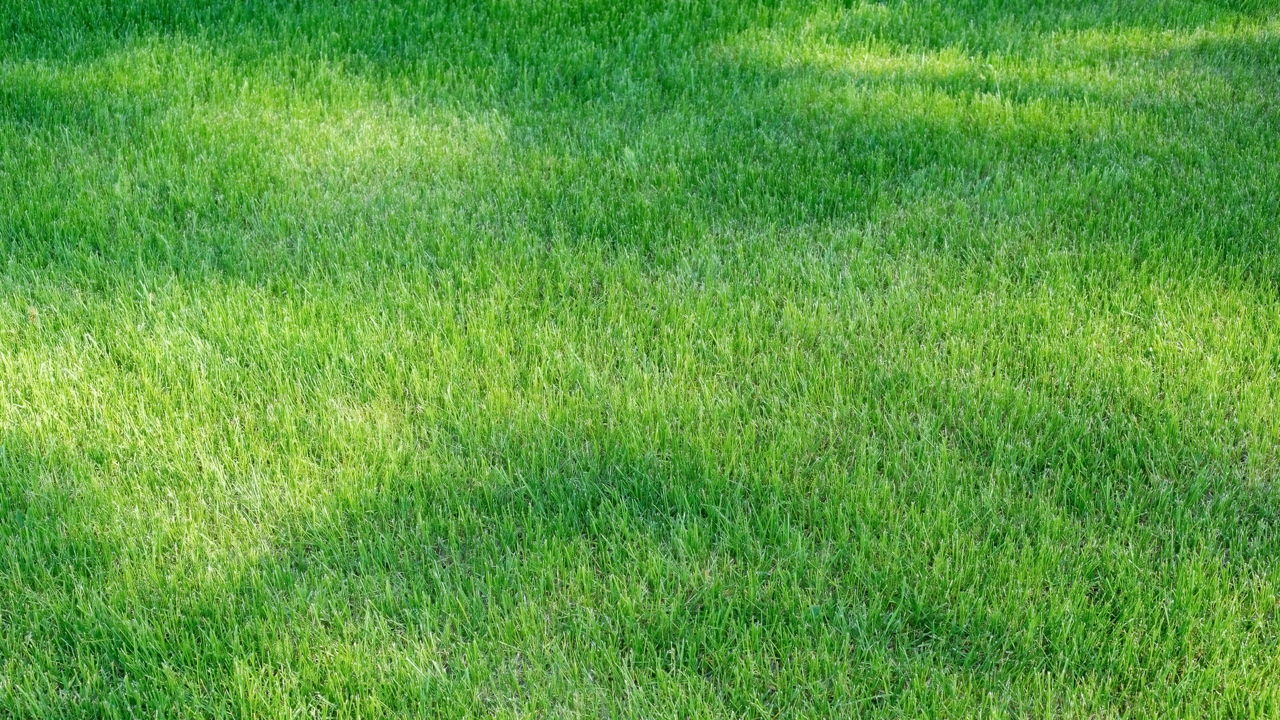grass: (1, 2, 1280, 720)
